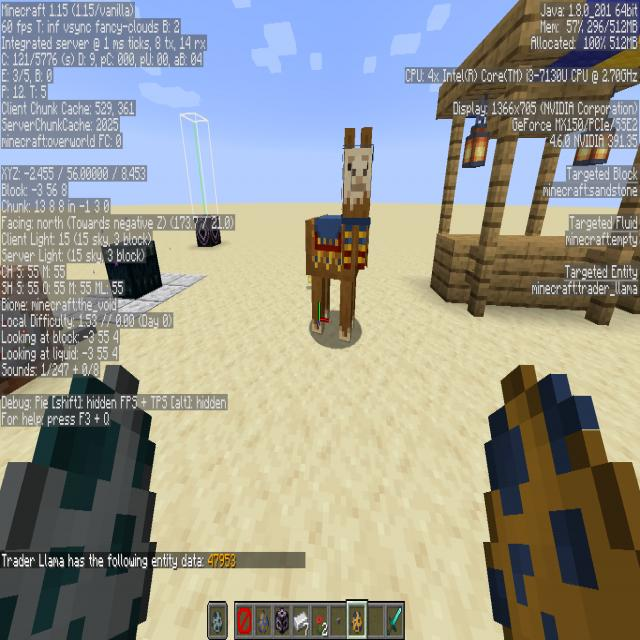Trader Lama: (304, 123, 374, 342)
